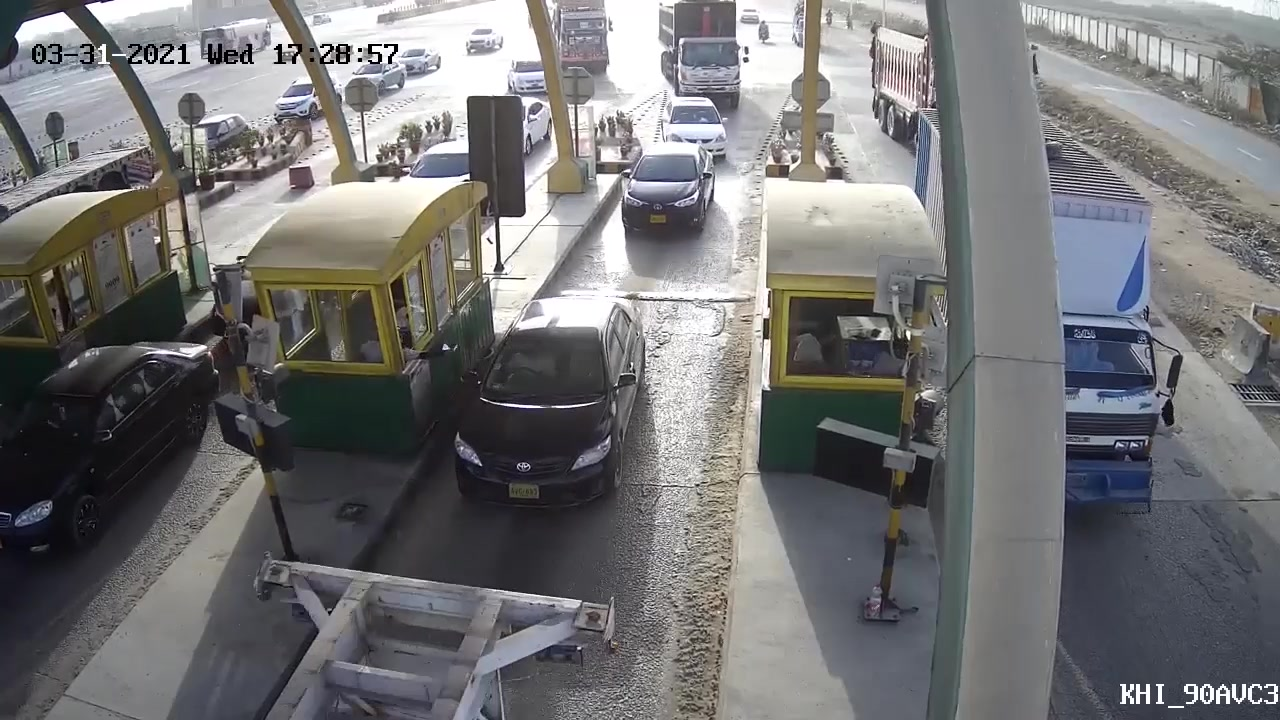F1: (447, 274, 672, 501)
